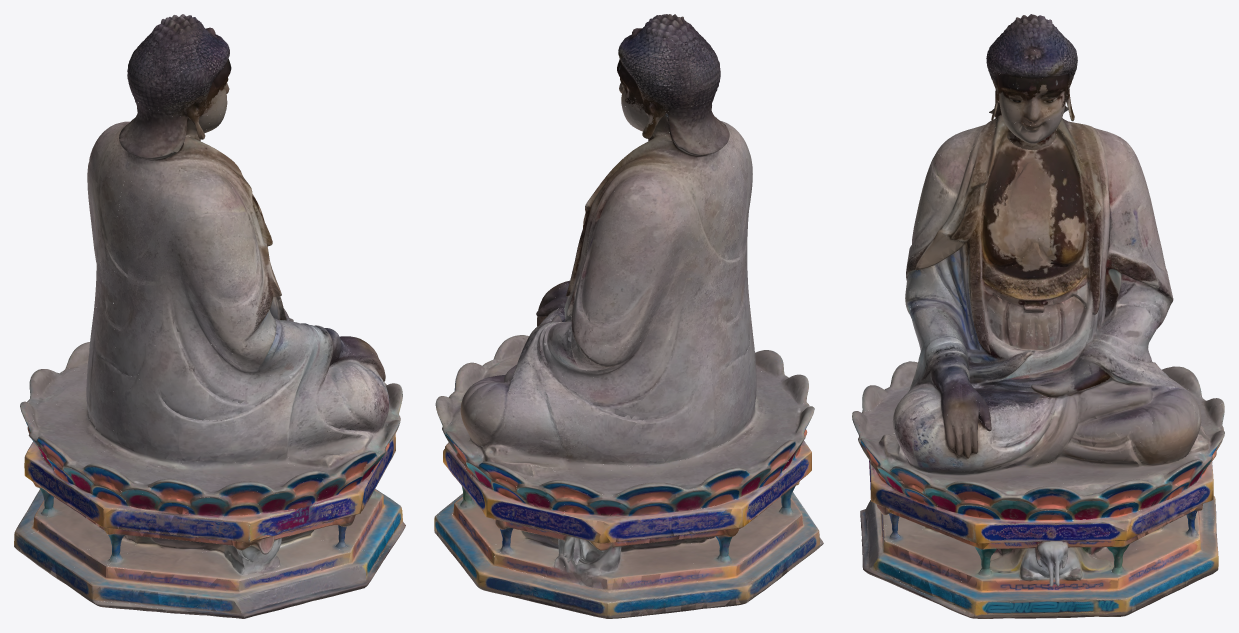
The model's file is f2-central.glb.
3 renders of one model, left to right at view 1: azimuth 30°, elevation 25°; view 2: azimuth 150°, elevation 25°; view 3: azimuth 270°, elevation 25°, orthographic. The views are drawn at different scales.
Parts seen in each view (by area): view 1: tripo_node_ff28d3dd-f93a-448b-bb87-8e3bc2d9bcff; view 2: tripo_node_ff28d3dd-f93a-448b-bb87-8e3bc2d9bcff; view 3: tripo_node_ff28d3dd-f93a-448b-bb87-8e3bc2d9bcff.
Part boxes in pixels (x1,y1,x2,y2): tripo_node_ff28d3dd-f93a-448b-bb87-8e3bc2d9bcff: (14, 14, 405, 618); tripo_node_ff28d3dd-f93a-448b-bb87-8e3bc2d9bcff: (434, 14, 823, 618); tripo_node_ff28d3dd-f93a-448b-bb87-8e3bc2d9bcff: (852, 14, 1224, 618).
Bounding box in the file's own units: 0.637 × 1 × 0.6574.
1 material, 1 textured.
